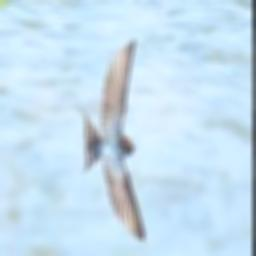Swallow: (74, 39, 143, 241)
